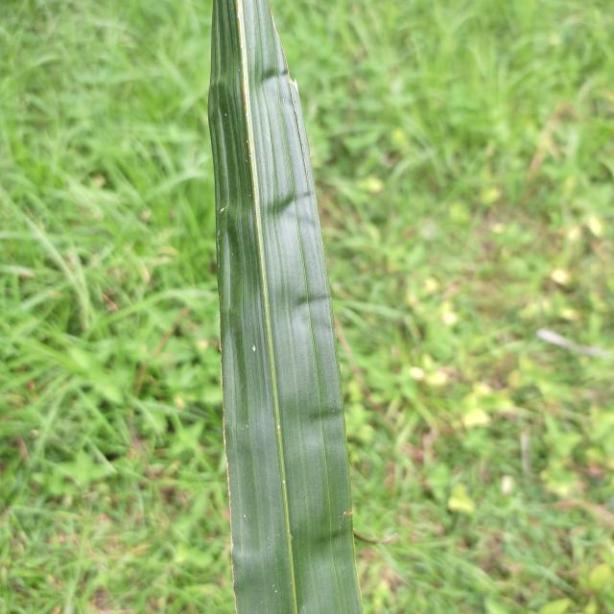Boron: (196, 1, 358, 614)
